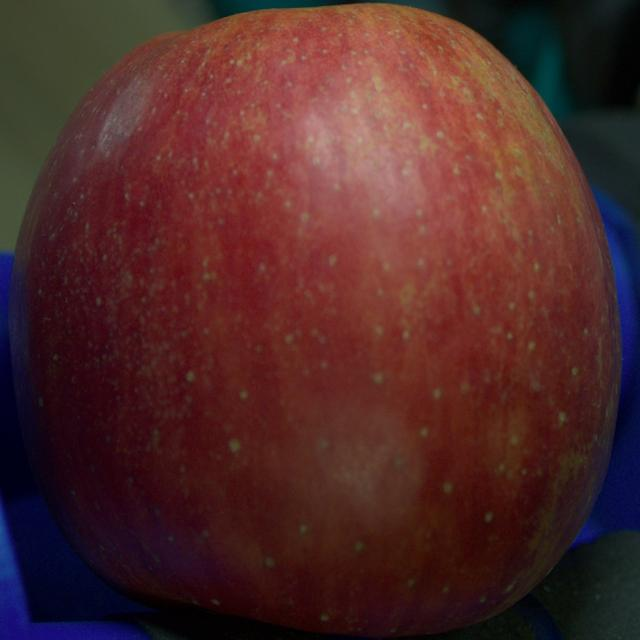apple: (8, 4, 621, 637)
